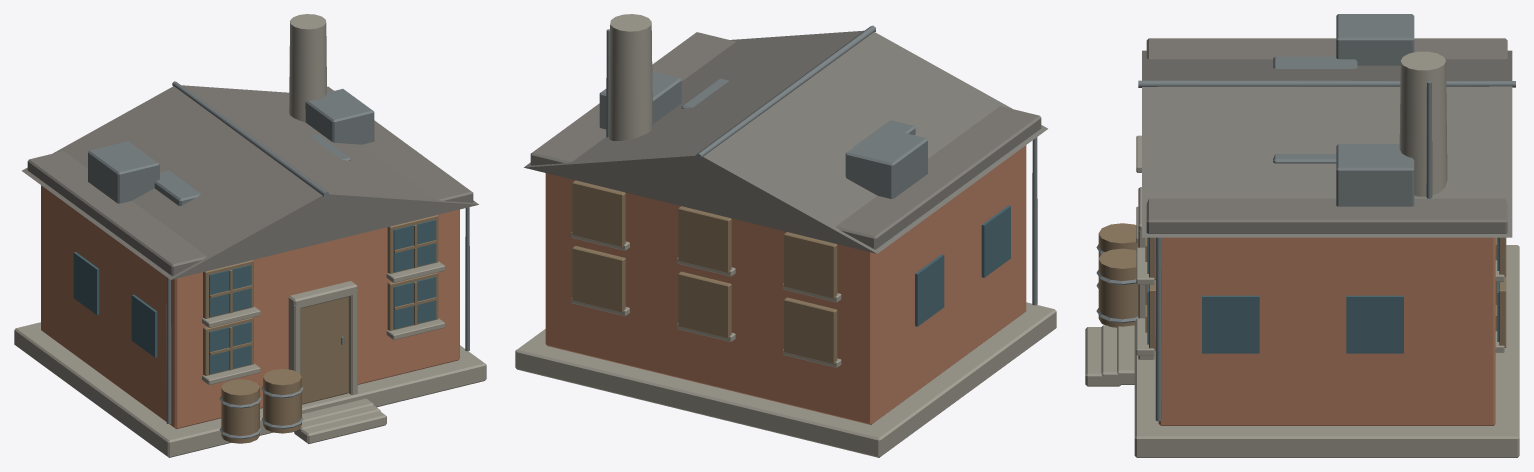
File: bld_usine_a06.glb
3 renders of one model, left to right at view 1: azimuth 30°, elevation 25°; view 2: azimuth 150°, elevation 25°; view 3: azimuth 270°, elevation 25°, orthographic. The views are drawn at different scales.
Visible parts, largest first — view 1: bld_usine_a06; view 2: bld_usine_a06; view 3: bld_usine_a06.
Part boxes in pixels (left/top/right/bottom): bld_usine_a06: left=14, top=14, right=486, bottom=457; bld_usine_a06: left=515, top=14, right=1056, bottom=457; bld_usine_a06: left=1085, top=14, right=1519, bottom=457.
Bounding box in the file's own units: 3.8 × 3.31 × 3.61.
